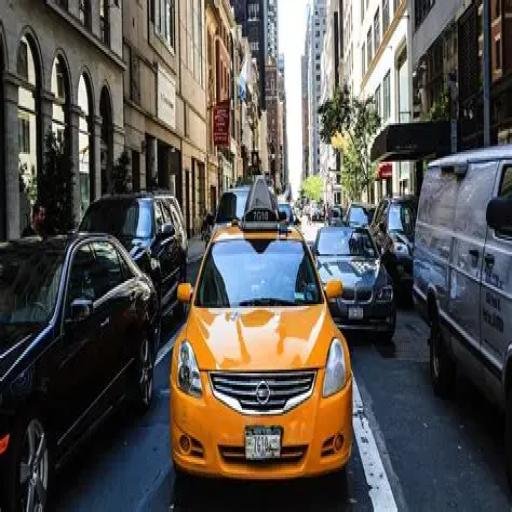car: (169, 173, 353, 481), (0, 229, 161, 510), (80, 192, 196, 310), (310, 202, 400, 343), (374, 193, 418, 297), (214, 168, 272, 230), (343, 194, 372, 229)
person: (31, 195, 53, 232)
truck: (416, 147, 512, 432)
